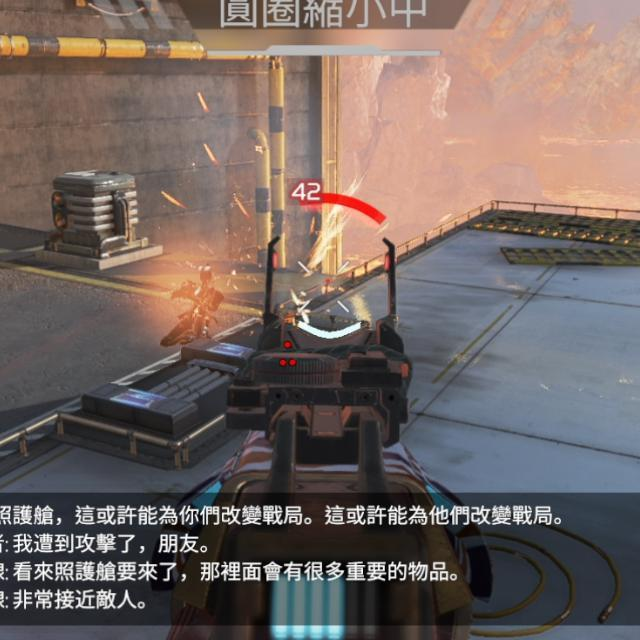avatar: (158, 263, 226, 348)
